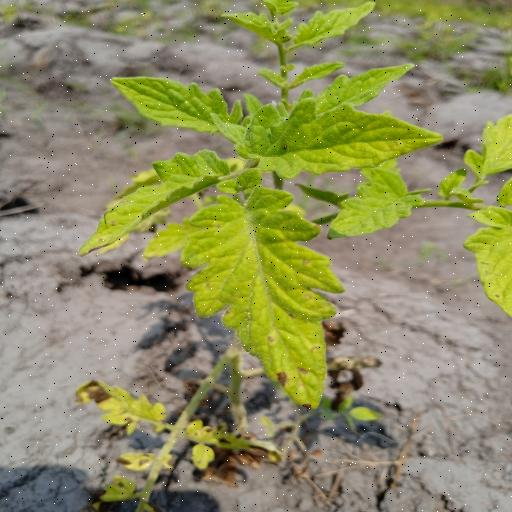Tomato_Brown_Spots: (138, 182, 346, 418), (238, 94, 446, 184), (83, 143, 237, 259)
